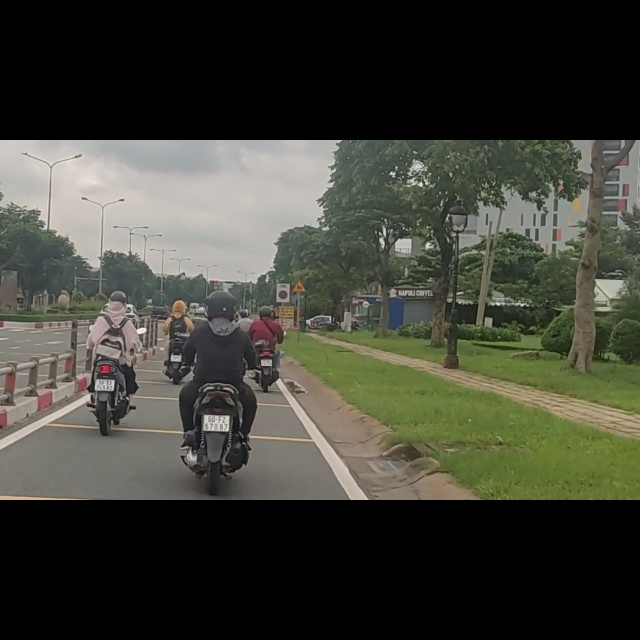bien_cam: (292, 248, 307, 271), (279, 267, 288, 283)
